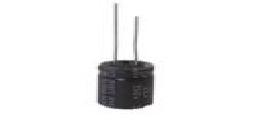Electrolytic-Capacitor: (96, 2, 156, 112)
